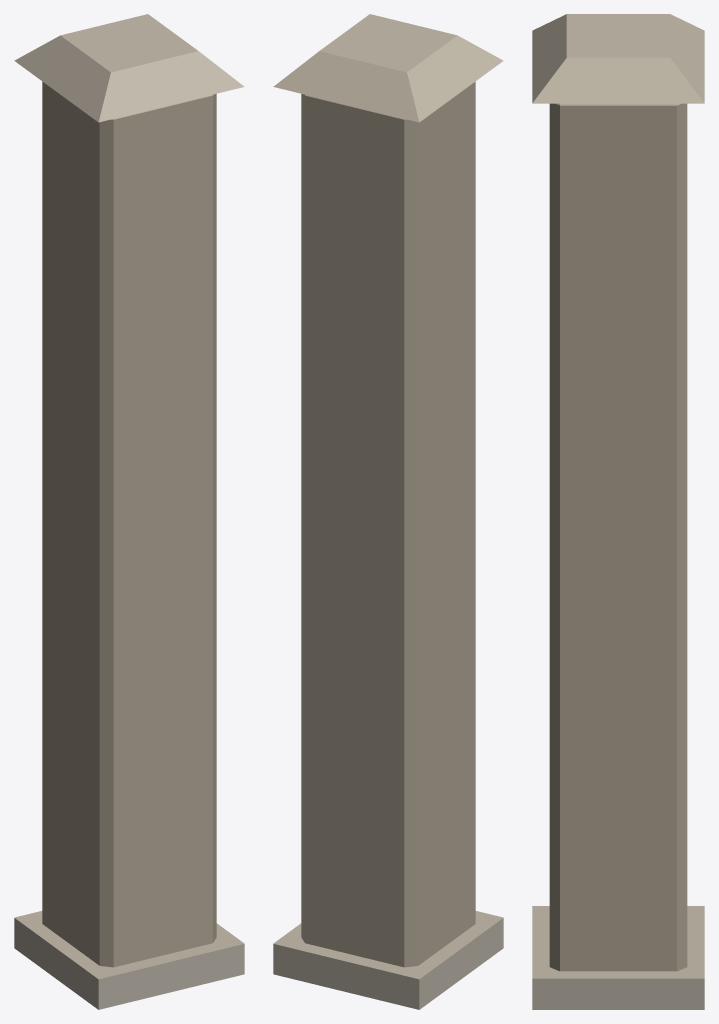
File: Post.glb
The picture shows the model from 3 angles, left to right: view 1: azimuth 30°, elevation 25°; view 2: azimuth 150°, elevation 25°; view 3: azimuth 270°, elevation 25°; orthographic projection. The views are drawn at different scales.
Visible parts, largest first — view 1: Wood; view 2: Wood; view 3: Wood.
Part boxes in pixels (box(x1,y1,x2,y2)): Wood: box(14, 14, 244, 1009); Wood: box(273, 14, 503, 1009); Wood: box(532, 14, 704, 1009).
Size of what is drawn, in the model's own units: 1 by 6 by 1.
